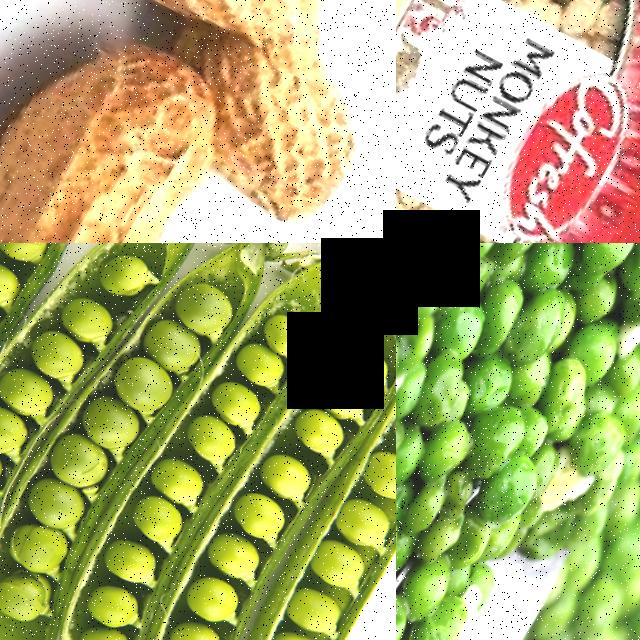peanuts: (0, 6, 260, 243), (189, 40, 396, 243), (43, 0, 373, 103)
peas: (44, 288, 325, 640), (396, 243, 640, 640), (0, 254, 245, 640), (110, 318, 396, 640), (0, 243, 160, 593), (242, 353, 396, 640), (0, 243, 67, 560)
